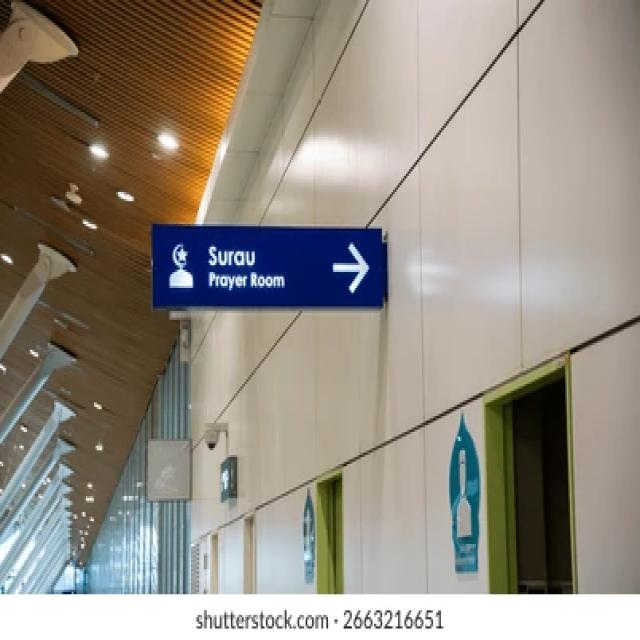surau_icon: (166, 236, 197, 296)
